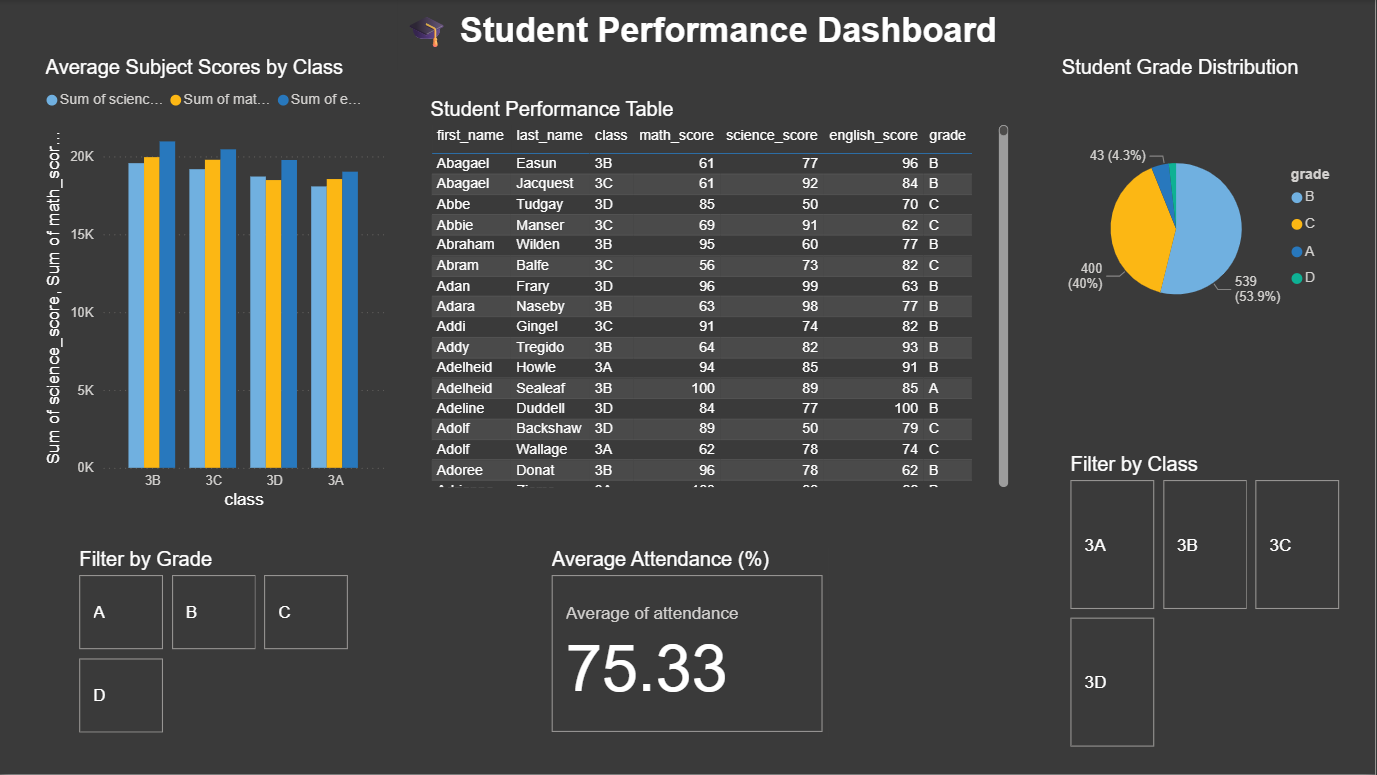

The dashboard page shown, as its layout file describes it:
{"tool":"powerbi","page":{"name":"Page 1","canvas":[1280,720],"ordinal":0},"visuals":[{"type":"pieChart","title":"Student Grade Distribution","fields":{"Category":["Student Performance.grade"],"Y":["Student Performance.grade"]},"box":[983.9,52.1,279.9,300.5],"z":0},{"type":"clusteredColumnChart","title":"Average Subject Scores by Class","fields":{"Y":["Student Performance.science_score","Student Performance.math_score","Student Performance.english_score"],"Category":["Student Performance.class"]},"box":[38.4,52.1,325.2,425.4],"z":1000},{"type":"cardVisual","title":"Average Attendance (%)","fields":{"Data":["Student Performance.attendance"]},"box":[509.1,509.1,262.1,177],"z":2000},{"type":"advancedSlicerVisual","title":"Filter by Class","fields":{"Values":["Student Performance.class"]},"box":[992.1,421.3,262.1,279.9],"z":3000},{"type":"tableEx","title":"Student Performance Table","fields":{"Values":["Student Performance.first_name","Student Performance.last_name","Student Performance.class","Student Performance.math_score","Student Performance.science_score","Student Performance.english_score","Student Performance.grade"]},"box":[396.6,90.6,547.5,367.8],"z":4000},{"type":"advancedSlicerVisual","title":"Filter by Grade","fields":{"Values":["Student Performance.grade"]},"box":[70,509,262,177],"z":5000},{"type":"textbox","box":[370.5,0,573.6,64.5],"z":6000}]}

Visuals, with their boxes in screenshot pixels (x1, y1, x2, y2), scaled from the page's 1280x720 canvas onto the 1377x775 screenshot:
"Student Grade Distribution" pieChart: left=1058, top=56, right=1360, bottom=380
"Average Subject Scores by Class" clusteredColumnChart: left=41, top=56, right=391, bottom=514
"Average Attendance (%)" cardVisual: left=548, top=548, right=830, bottom=739
"Filter by Class" advancedSlicerVisual: left=1067, top=453, right=1349, bottom=755
"Student Performance Table" tableEx: left=427, top=98, right=1016, bottom=493
"Filter by Grade" advancedSlicerVisual: left=75, top=548, right=357, bottom=738
textbox: left=399, top=0, right=1016, bottom=69
